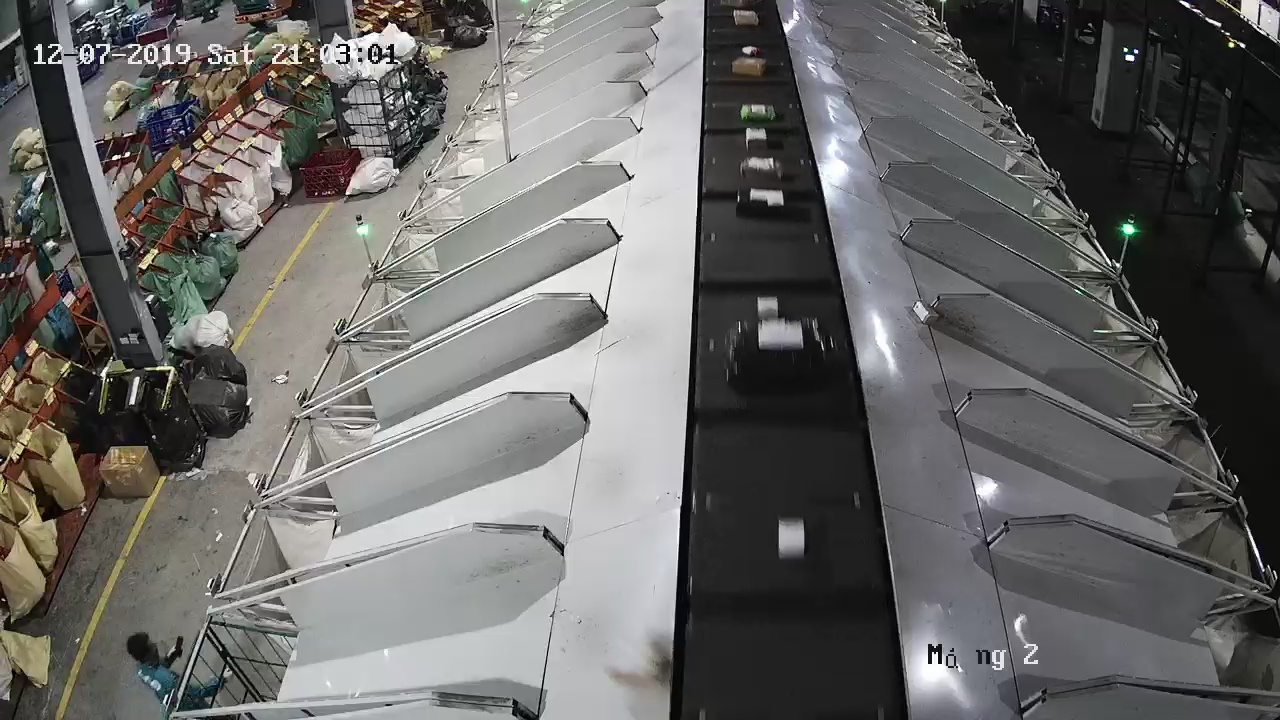parcel: (600, 639, 668, 687)
